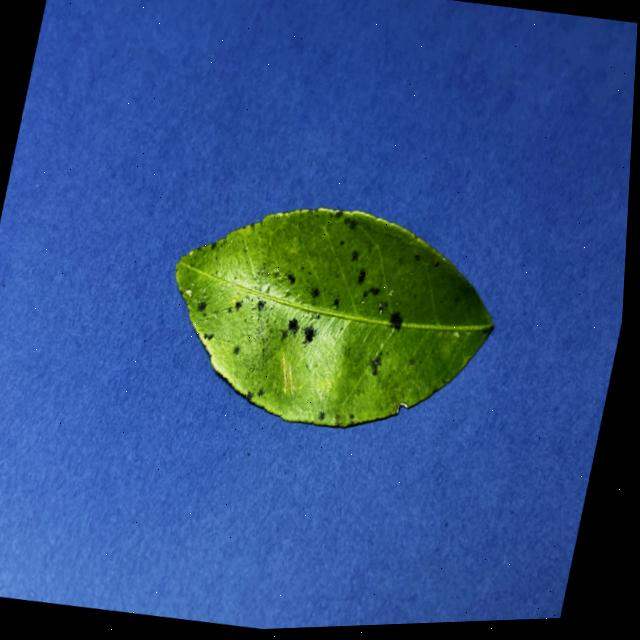sooty_mold: (175, 208, 493, 427)
